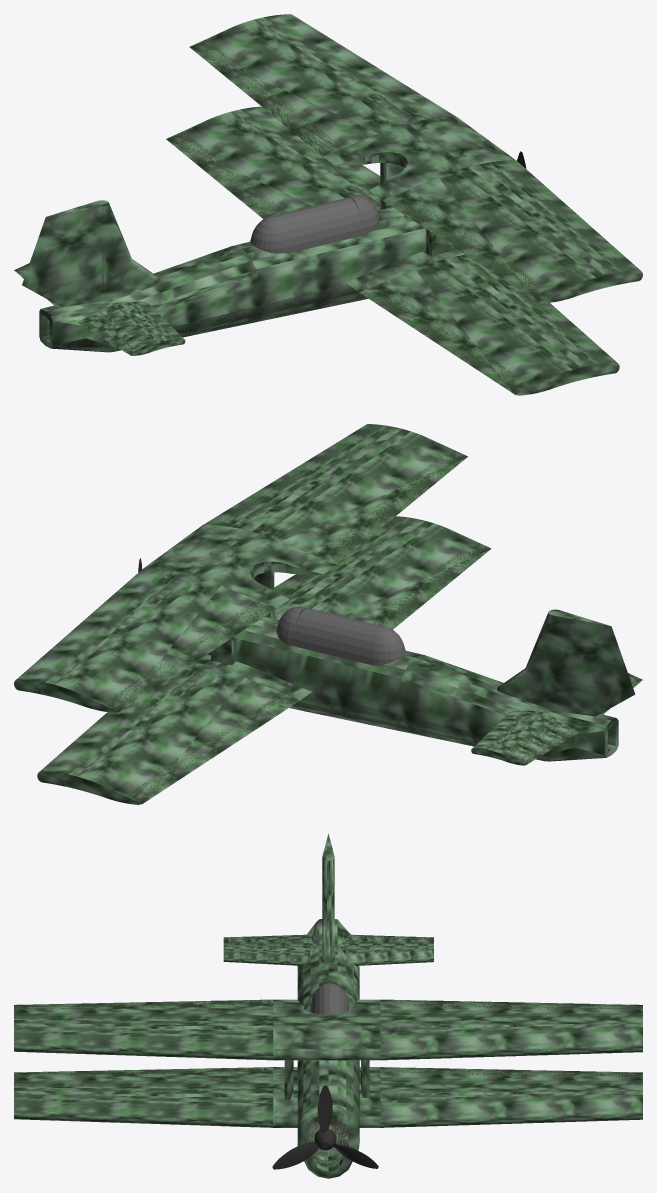
3 views of the same model, one above another, from view 1: azimuth 30°, elevation 25°; view 2: azimuth 150°, elevation 25°; view 3: azimuth 270°, elevation 25° (orthographic). The views are drawn at different scales.
Parts seen in each view (by area): view 1: mesh1.002_mesh1-geometry, mesh1.001_mesh1-geometry, mesh21.001_mesh21-geometry, mesh4.001_mesh4-geometry, mesh7.002_mesh7-geometry, mesh43.001_mesh43-geometry, mesh6.002_mesh6-geometry; view 2: mesh1.002_mesh1-geometry, mesh1.001_mesh1-geometry, mesh21.001_mesh21-geometry, mesh4.001_mesh4-geometry, mesh7.002_mesh7-geometry, mesh43.001_mesh43-geometry, mesh6.002_mesh6-geometry; view 3: mesh1.002_mesh1-geometry, mesh1.001_mesh1-geometry, mesh21.001_mesh21-geometry, mesh43.001_mesh43-geometry, mesh4.001_mesh4-geometry, mesh7.002_mesh7-geometry, mesh15.002_mesh15-geometry, mesh14.002_mesh14-geometry.
Boxes of the visible parts, <box> form: mesh1.002_mesh1-geometry: <box>189,14,642,303</box>; mesh1.001_mesh1-geometry: <box>166,106,619,395</box>; mesh21.001_mesh21-geometry: <box>39,207,425,352</box>; mesh4.001_mesh4-geometry: <box>22,200,160,307</box>; mesh7.002_mesh7-geometry: <box>250,197,362,253</box>; mesh43.001_mesh43-geometry: <box>14,263,185,355</box>; mesh6.002_mesh6-geometry: <box>349,196,379,235</box>; mesh1.002_mesh1-geometry: <box>14,424,467,712</box>; mesh1.001_mesh1-geometry: <box>37,516,491,804</box>; mesh21.001_mesh21-geometry: <box>207,616,618,761</box>; mesh4.001_mesh4-geometry: <box>497,609,635,716</box>; mesh7.002_mesh7-geometry: <box>294,608,405,665</box>; mesh43.001_mesh43-geometry: <box>471,673,642,765</box>; mesh6.002_mesh6-geometry: <box>276,606,306,645</box>; mesh1.002_mesh1-geometry: <box>14,999,642,1060</box>; mesh1.001_mesh1-geometry: <box>14,1067,642,1127</box>; mesh21.001_mesh21-geometry: <box>297,919,359,1178</box>; mesh43.001_mesh43-geometry: <box>223,934,433,965</box>; mesh4.001_mesh4-geometry: <box>322,833,334,962</box>; mesh7.002_mesh7-geometry: <box>310,983,348,1014</box>; mesh15.002_mesh15-geometry: <box>272,1141,318,1169</box>; mesh14.002_mesh14-geometry: <box>317,1085,332,1132</box>.
Bounding box in the file's own units: 0.6317 × 0.1921 × 0.751.
